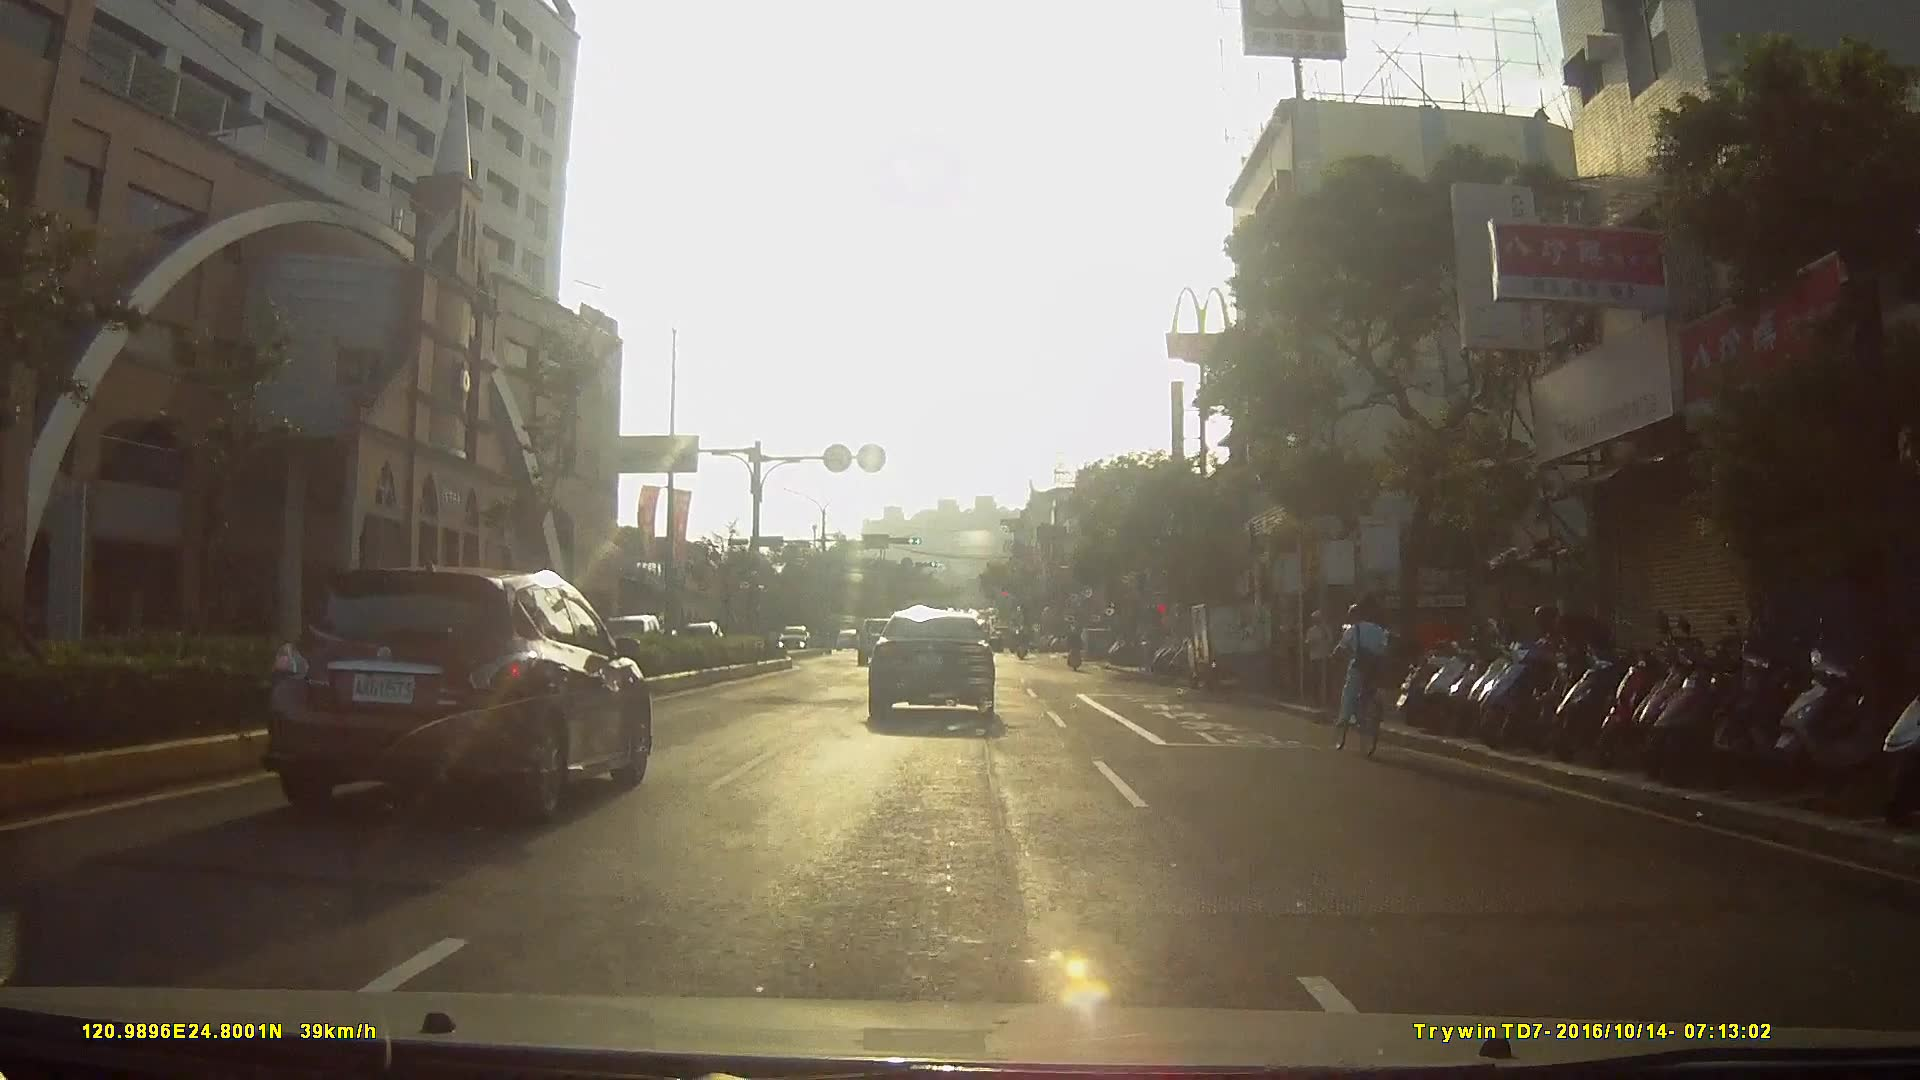pedestrian: (1306, 613, 1344, 712)
rider: (1325, 607, 1398, 762)
vehicle: (255, 562, 665, 825), (864, 607, 1010, 731), (1189, 599, 1292, 698), (854, 620, 913, 673), (775, 623, 812, 653), (828, 632, 854, 657)
